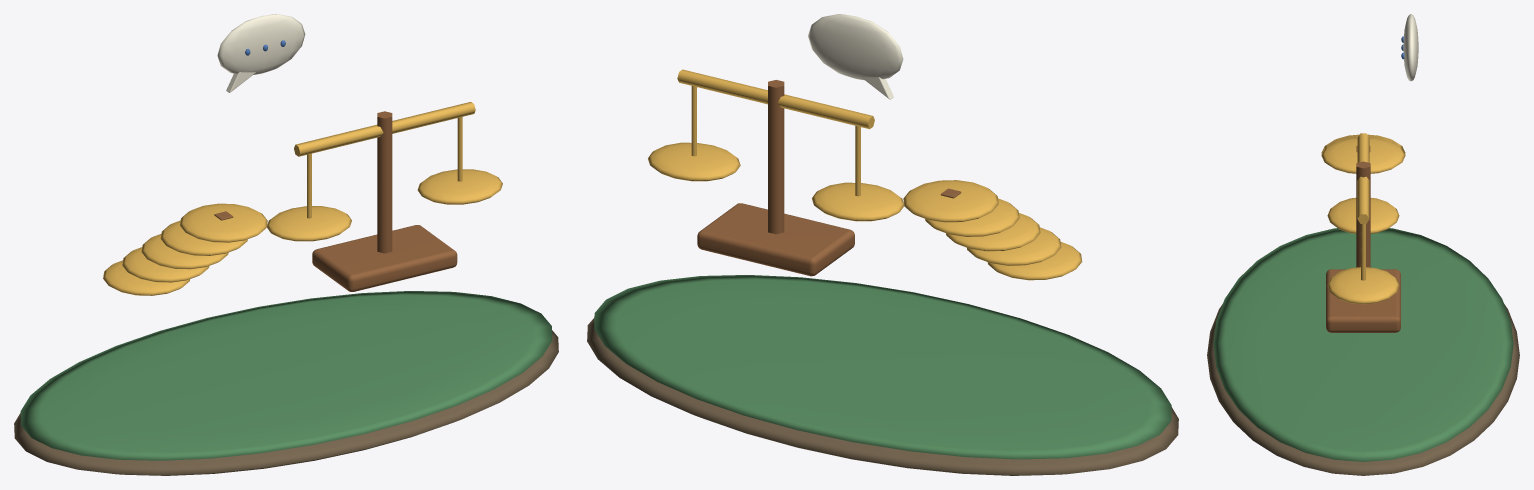
The model's file is complete-third-trade-measure-talk.glb.
3 renders of one model, left to right at view 1: azimuth 30°, elevation 25°; view 2: azimuth 150°, elevation 25°; view 3: azimuth 270°, elevation 25°, orthographic. The views are drawn at different scales.
Parts seen in each view (by area): view 1: complete-third-trade-measure-talk_surface_01, complete-third-trade-measure-talk_surface_02, complete-third-trade-measure-talk_surface_00, complete-third-trade-measure-talk_surface_03, complete-third-trade-measure-talk_surface_04; view 2: complete-third-trade-measure-talk_surface_01, complete-third-trade-measure-talk_surface_02, complete-third-trade-measure-talk_surface_00, complete-third-trade-measure-talk_surface_03, complete-third-trade-measure-talk_surface_04; view 3: complete-third-trade-measure-talk_surface_01, complete-third-trade-measure-talk_surface_02, complete-third-trade-measure-talk_surface_00, complete-third-trade-measure-talk_surface_03, complete-third-trade-measure-talk_surface_04.
Part boxes in pixels (<box>): complete-third-trade-measure-talk_surface_01: <box>20,291,552,460</box>; complete-third-trade-measure-talk_surface_02: <box>103,102,502,295</box>; complete-third-trade-measure-talk_surface_00: <box>14,330,558,475</box>; complete-third-trade-measure-talk_surface_03: <box>214,111,457,291</box>; complete-third-trade-measure-talk_surface_04: <box>217,14,305,92</box>; complete-third-trade-measure-talk_surface_01: <box>594,275,1171,459</box>; complete-third-trade-measure-talk_surface_02: <box>648,69,1082,280</box>; complete-third-trade-measure-talk_surface_00: <box>587,318,1178,475</box>; complete-third-trade-measure-talk_surface_03: <box>697,80,961,276</box>; complete-third-trade-measure-talk_surface_04: <box>808,14,903,99</box>; complete-third-trade-measure-talk_surface_01: <box>1213,228,1513,461</box>; complete-third-trade-measure-talk_surface_02: <box>1321,133,1405,304</box>; complete-third-trade-measure-talk_surface_00: <box>1207,304,1519,475</box>; complete-third-trade-measure-talk_surface_03: <box>1326,146,1400,332</box>; complete-third-trade-measure-talk_surface_04: <box>1403,14,1418,81</box>.
Bounding box in the file's own units: 4.56 × 3.08 × 2.5.
